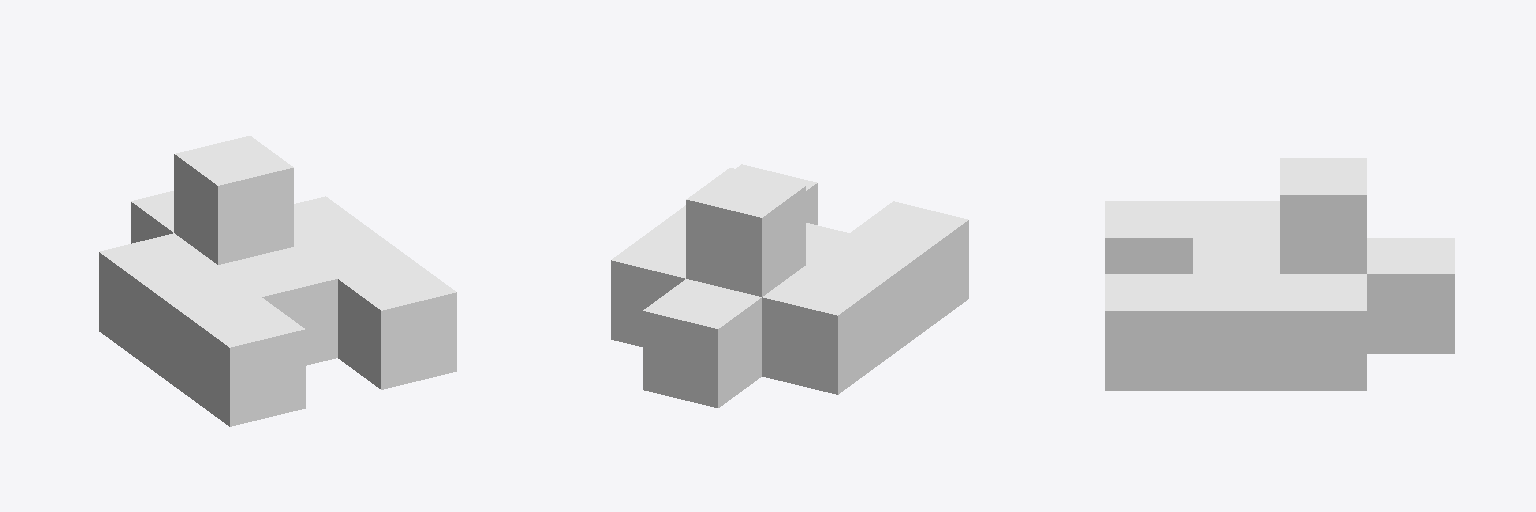
File: Pingvin-1.obj
3 views of the same model, side by side, from view 1: azimuth 30°, elevation 25°; view 2: azimuth 150°, elevation 25°; view 3: azimuth 270°, elevation 25° (orthographic).
Parts seen in each view (by area): view 1: object 1; view 2: object 1; view 3: object 1.
Boxes of the visible parts, x1=… form: object 1: x1=99, y1=136, x2=456, y2=426; object 1: x1=611, y1=164, x2=968, y2=407; object 1: x1=1105, y1=158, x2=1454, y2=390.
Size of the model in its own units: 0.3 by 0.2 by 0.4.